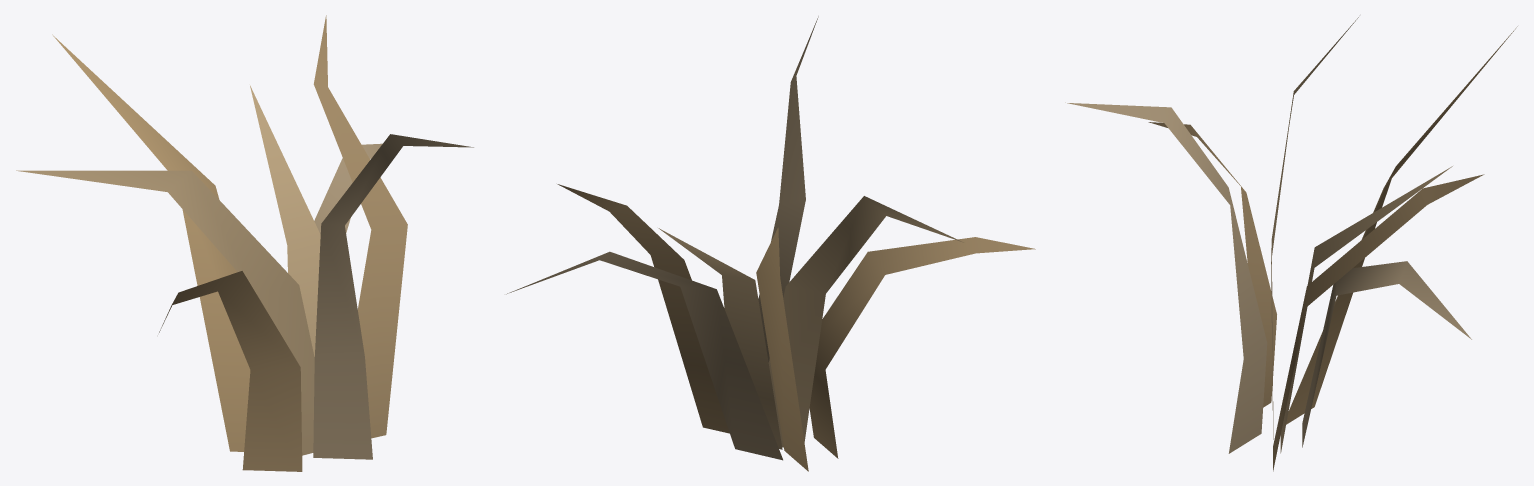
The model's file is Grass_e_TwoS_03.fbx.
3 renders of one model, left to right at view 1: azimuth 30°, elevation 25°; view 2: azimuth 150°, elevation 25°; view 3: azimuth 270°, elevation 25°, orthographic. The views are drawn at different scales.
Parts seen in each view (by area): view 1: Grass_e_TwoS_03; view 2: Grass_e_TwoS_03; view 3: Grass_e_TwoS_03.
Boxes of the visible parts, <box> form: Grass_e_TwoS_03: <box>16,15,473,471</box>; Grass_e_TwoS_03: <box>506,16,1035,471</box>; Grass_e_TwoS_03: <box>1065,17,1517,471</box>.
Bounding box in the file's own units: 54.84 × 44.34 × 50.61.
